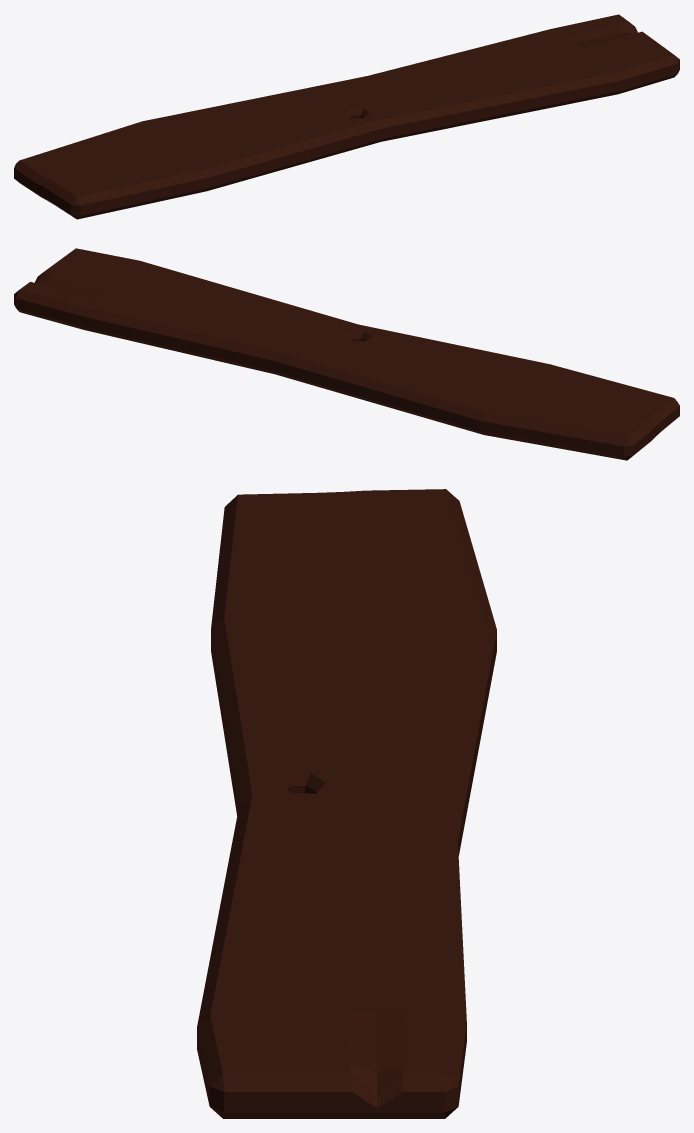
Rendered from planche_petite.fbx.
3 views of the same model, one above another, from view 1: azimuth 30°, elevation 25°; view 2: azimuth 150°, elevation 25°; view 3: azimuth 270°, elevation 25° (orthographic). The views are drawn at different scales.
Parts seen in each view (by area): view 1: planche_bois_2m; view 2: planche_bois_2m; view 3: planche_bois_2m.
Boxes of the visible parts, bbox=[...] form: planche_bois_2m: bbox=[14, 14, 679, 219]; planche_bois_2m: bbox=[14, 248, 679, 460]; planche_bois_2m: bbox=[197, 489, 496, 1118].
Size of the model in its own units: 200 by 7 by 42.55.
